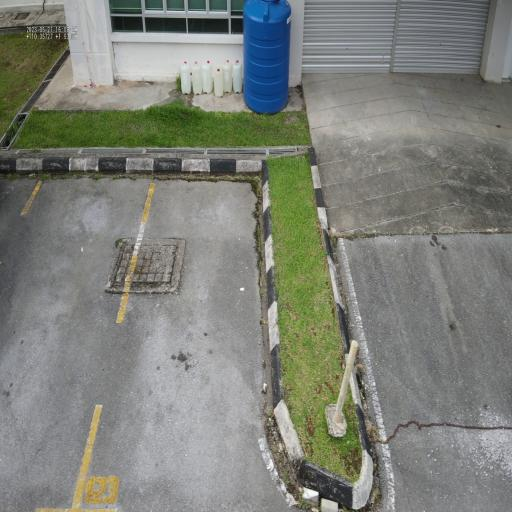Empty: (65, 159, 290, 512)
